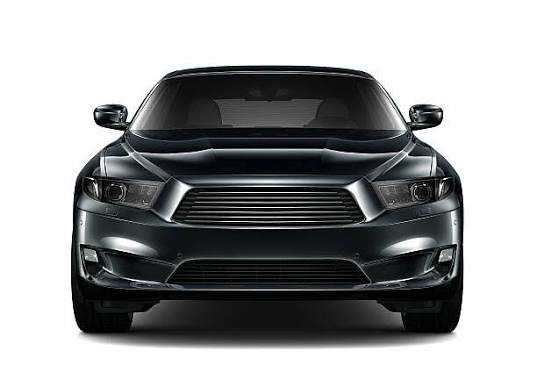car: (61, 69, 458, 331)
